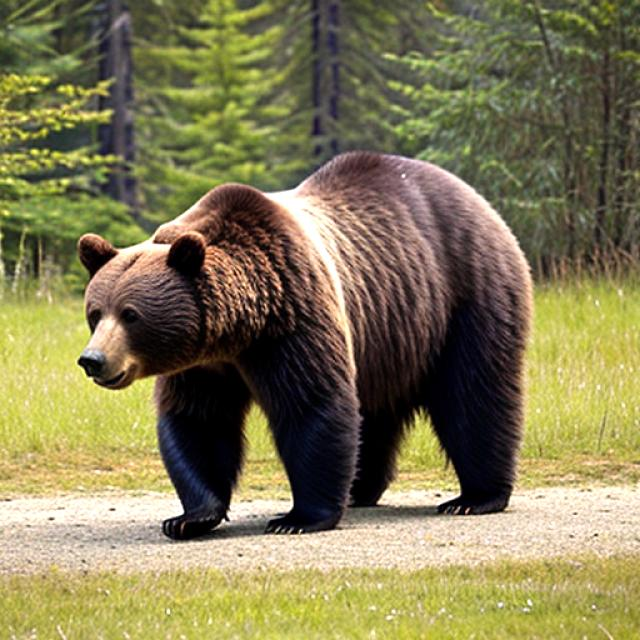bear: (53, 220, 241, 403)
